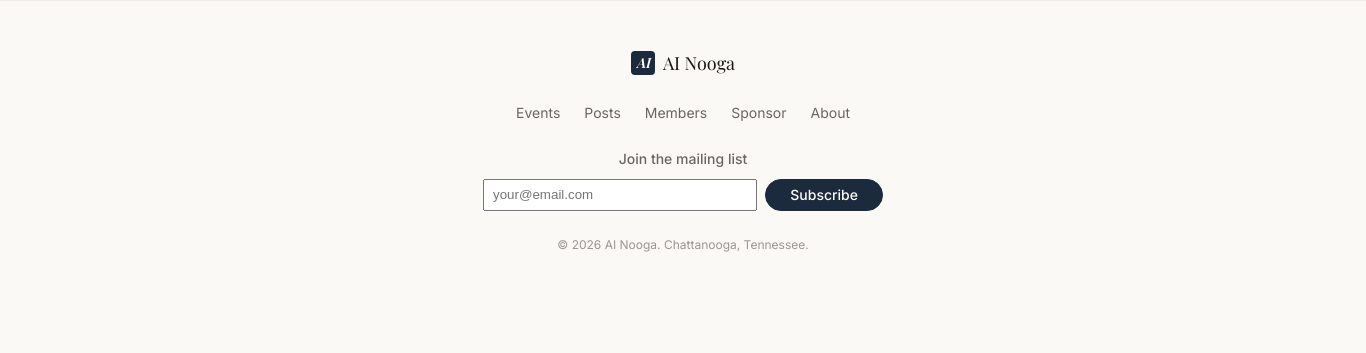
SiteFooter newsletter state machine › SUBMITTING → ERROR_SERVER › shows server error and destroys widget
Type "user@example.com" into the field with id "subscribe-email" at {"x": 620, "y": 195}, box [483,179,757,211]
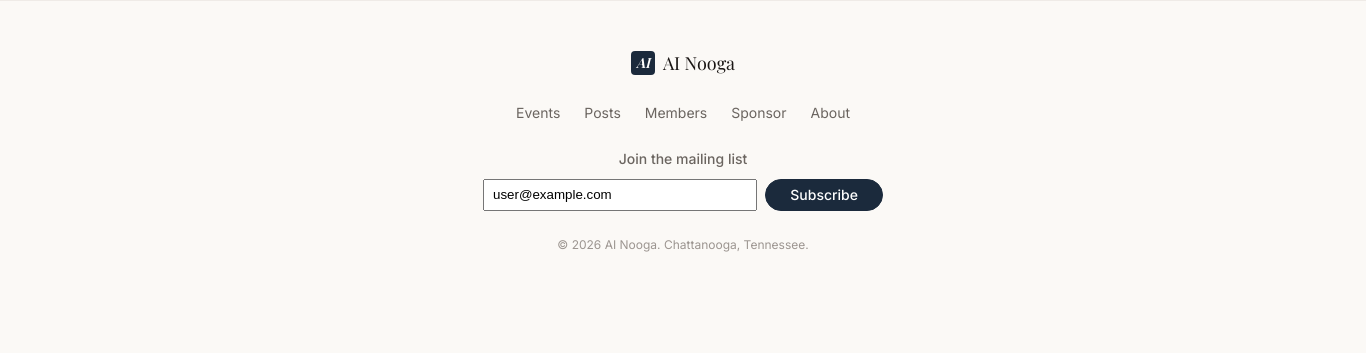
Submit the form with class "site-footer__subscribe", box [483,148,883,211]
Wait 250 ms
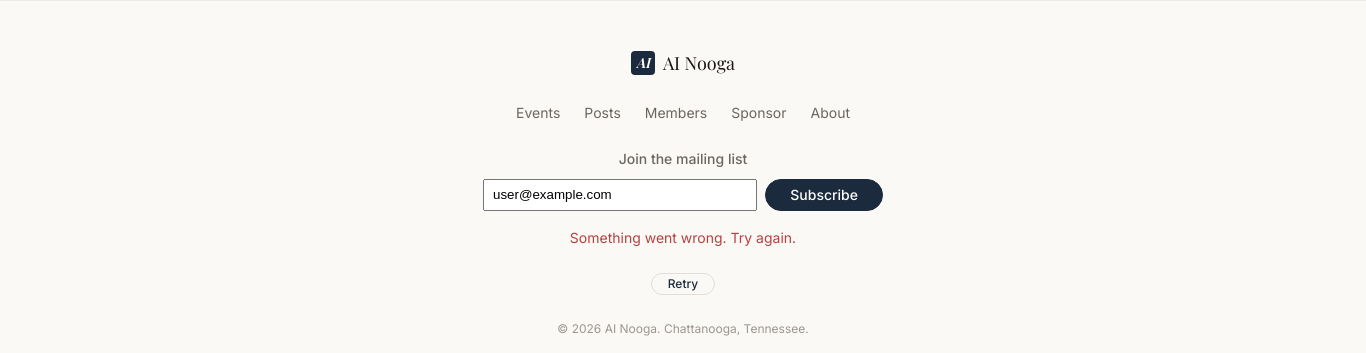
Check: the text with class "error" reads "Something went wrong. Try again.", box [570,229,796,246]
Check: the button "Retry" is shown, box [651,273,715,295]
